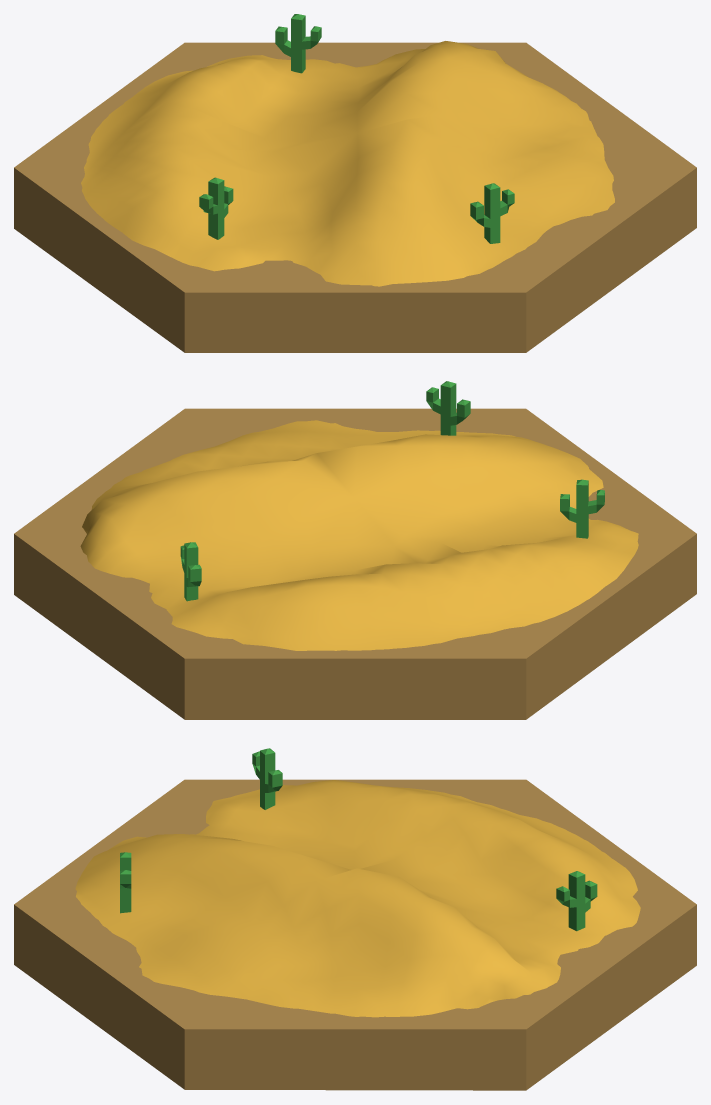
File: biome_desert.fbx
The picture shows the model from 3 angles, top to bottom: view 1: azimuth 30°, elevation 25°; view 2: azimuth 150°, elevation 25°; view 3: azimuth 270°, elevation 25°; orthographic projection.
Visible parts, largest first — view 1: Sand, Tile, Kaktus2, Kaktus1, Kaktus2.001; view 2: Sand, Tile, Kaktus2, Kaktus2.001, Kaktus1; view 3: Sand, Tile, Kaktus1, Kaktus2.001, Kaktus2.
Boxes of the visible parts, x1,y1,x2,y2 form: Sand: (81, 41, 614, 286); Tile: (14, 42, 696, 352); Kaktus2: (470, 183, 514, 243); Kaktus1: (275, 14, 321, 73); Kaktus2.001: (199, 177, 233, 239); Sand: (80, 420, 638, 650); Tile: (14, 408, 696, 719); Kaktus2: (426, 381, 470, 435); Kaktus2.001: (560, 479, 604, 538); Kaktus1: (180, 542, 201, 601); Sand: (75, 780, 640, 1017); Tile: (14, 779, 696, 1090); Kaktus1: (556, 871, 597, 931); Kaktus2.001: (252, 748, 282, 809); Kaktus2: (120, 852, 131, 913).
Size of the model in its own units: 173 by 41.26 by 200.
